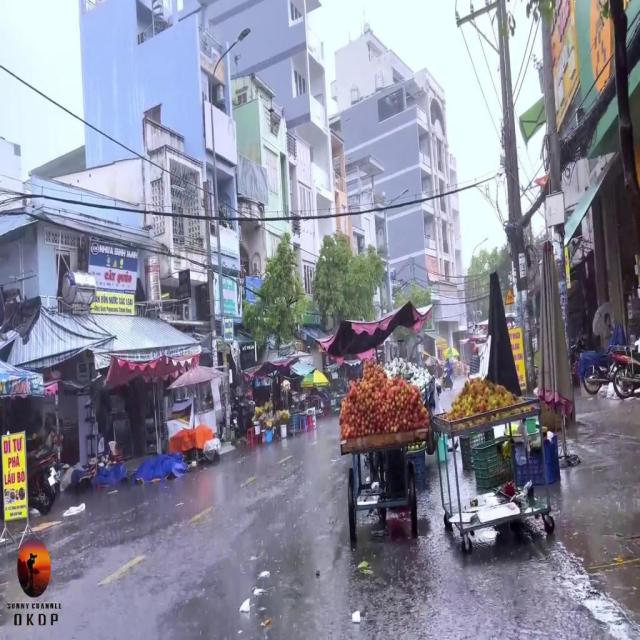chu_y_tre_em: (505, 286, 515, 306)
